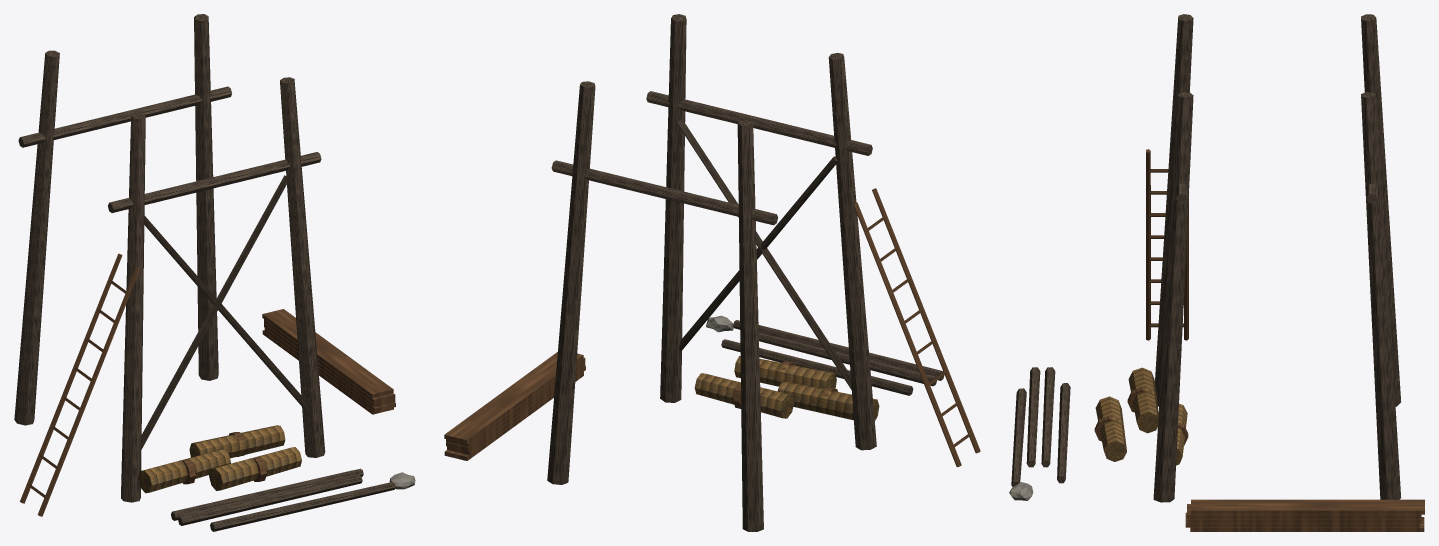
The model's file is cantiere_torre_avvistamento.glb.
3 views of the same model, side by side, from view 1: azimuth 30°, elevation 25°; view 2: azimuth 150°, elevation 25°; view 3: azimuth 270°, elevation 25° (orthographic). The views are drawn at different scales.
Visible parts, largest first — view 1: cantiere_torre_avvistamento; view 2: cantiere_torre_avvistamento; view 3: cantiere_torre_avvistamento.
Boxes of the visible parts, x1,y1,x2,y2 form: cantiere_torre_avvistamento: [14, 14, 415, 531]; cantiere_torre_avvistamento: [444, 14, 980, 531]; cantiere_torre_avvistamento: [1009, 14, 1424, 531].
Bounding box in the file's own units: 6.31 × 5.97 × 5.69.
4 materials, 4 textured.
